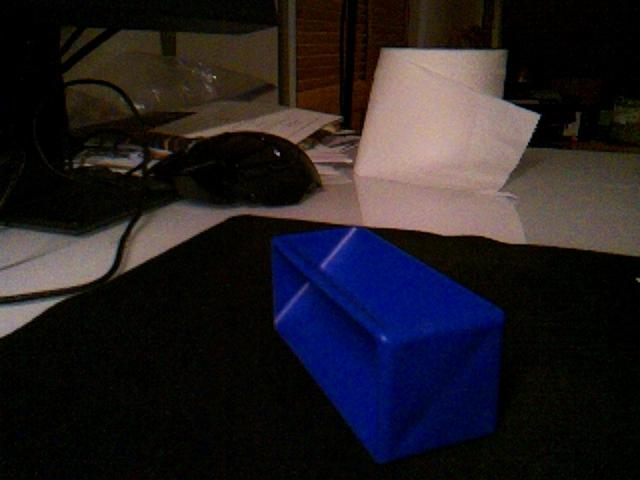blue: (268, 224, 507, 465)
